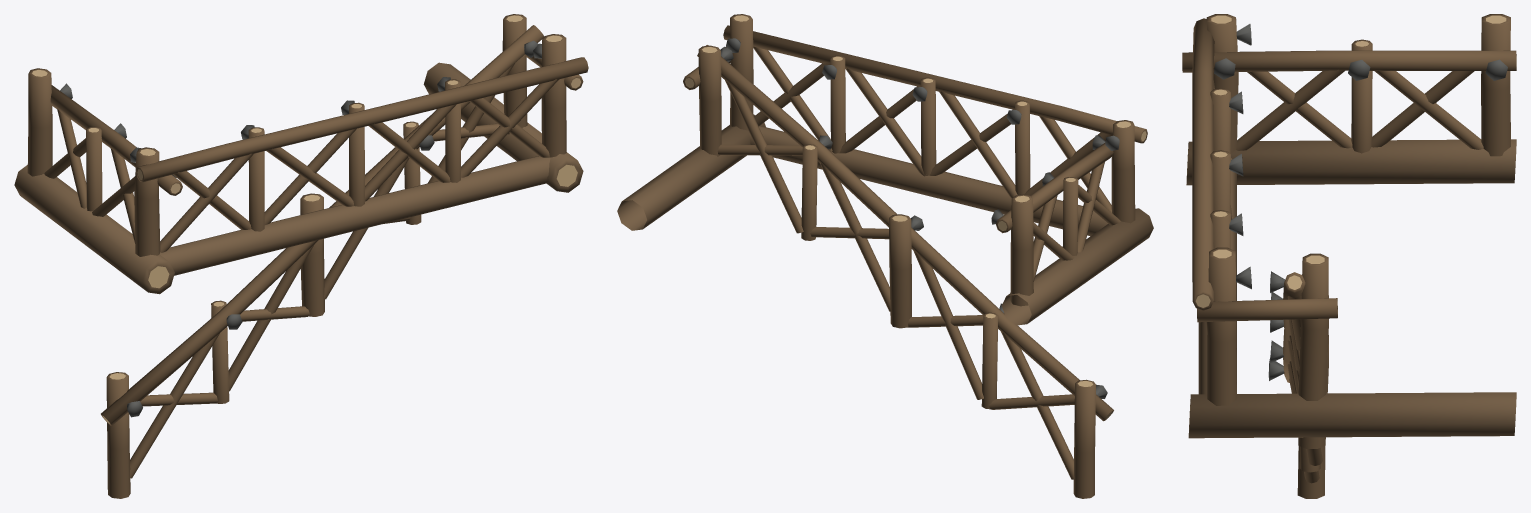
File: rpgpp_ag_stairs_interior_02a_4m_handrail_01.fbx
The picture shows the model from 3 angles, left to right: view 1: azimuth 30°, elevation 25°; view 2: azimuth 150°, elevation 25°; view 3: azimuth 270°, elevation 25°; orthographic projection. The views are drawn at different scales.
Visible parts, largest first — view 1: rpgpp_ag_stairs_interior_02a_4m_handrail_01; view 2: rpgpp_ag_stairs_interior_02a_4m_handrail_01; view 3: rpgpp_ag_stairs_interior_02a_4m_handrail_01.
Boxes of the visible parts, left/top/right/bottom form: rpgpp_ag_stairs_interior_02a_4m_handrail_01: left=14, top=14, right=588, bottom=498; rpgpp_ag_stairs_interior_02a_4m_handrail_01: left=617, top=14, right=1153, bottom=498; rpgpp_ag_stairs_interior_02a_4m_handrail_01: left=1182, top=14, right=1516, bottom=498.
Bounding box in the file's own units: 6.63 × 5.42 × 3.37.
